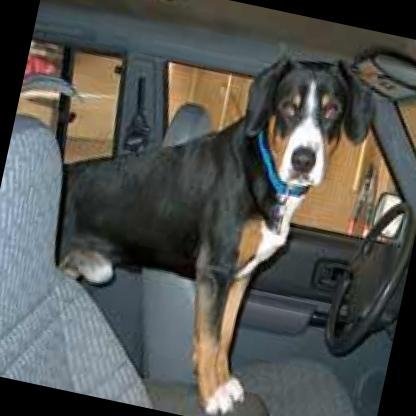EntleBucher: (19, 9, 384, 416)
